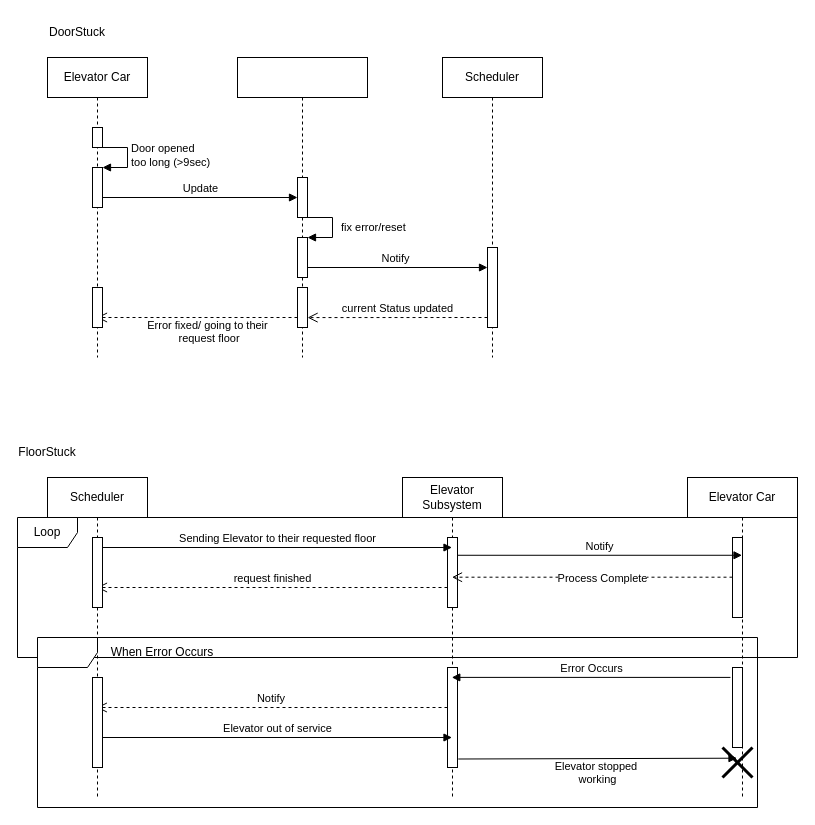
The diagram is 815 pixels wide and 825 high, and some of its shapes have lost their labels. Here are the shapes that lost their labels. From the top down, the centre of each, then its label:
At point 302,207: "ElevatorSubsystem".
At point 397,722: "alt".
